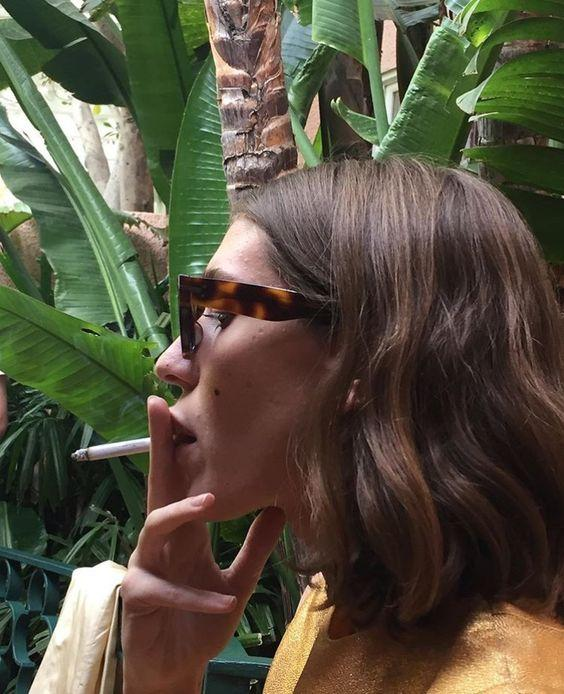cigarette: (71, 437, 151, 463)
